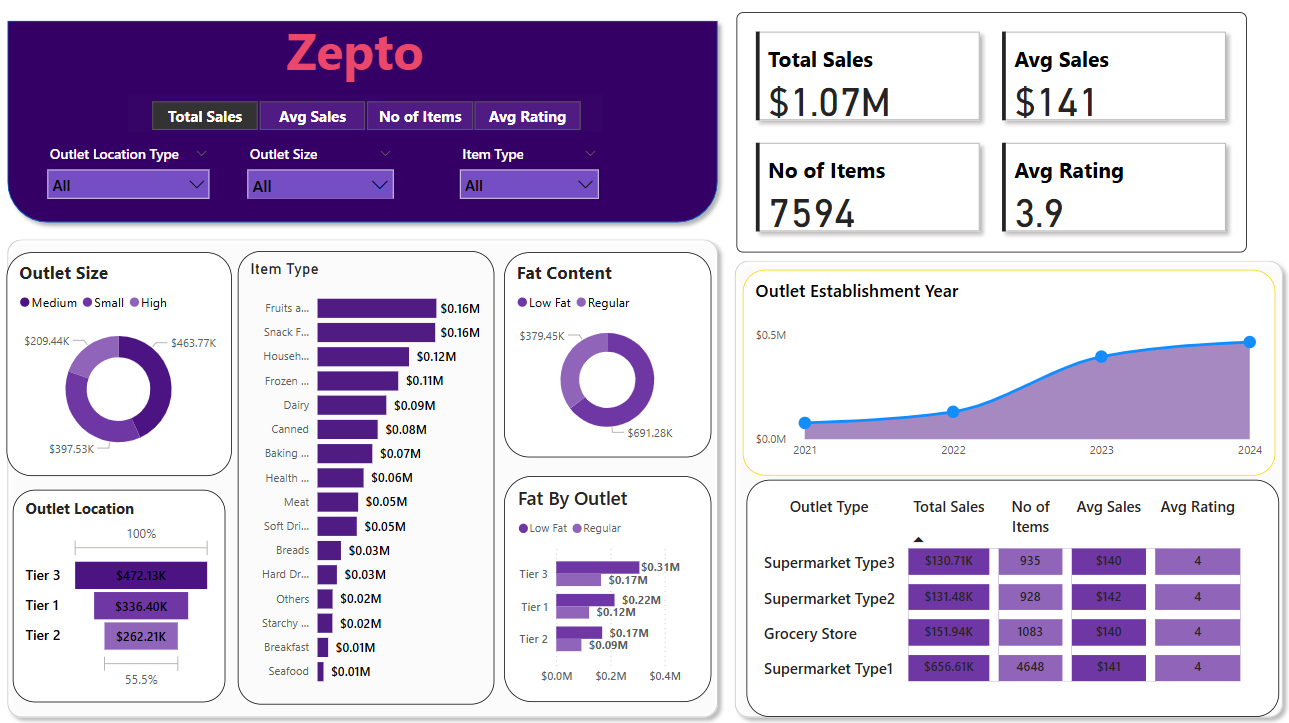

Layout of this report page (visuals, bound fields, positions):
{"tool":"powerbi","page":{"name":"Page 1","canvas":[1400,800],"ordinal":0},"visuals":[{"type":"shape","box":[0,22.8,780.2,234.6],"z":0},{"type":"cardVisual","fields":{"Data":["BlinkIT Grocery Data.Total Sales","BlinkIT Grocery Data.Avg Sales","BlinkIT Grocery Data.No of Items","BlinkIT Grocery Data.Avg Rating"]},"box":[790.9,22.8,546.9,257.4],"z":1000},{"type":"shape","box":[0,257.4,780.2,530.8],"z":2000},{"type":"donutChart","title":"Fat Content","fields":{"Y":["Grocery Data.Total Sales"],"Category":["BlinkIT Grocery Data.Item Fat Content"]},"box":[541.6,280.2,222.5,219.8],"z":3000},{"type":"slicer","fields":{"Values":["Parameter1.Parameter1"]},"box":[138.1,111.3,509.4,40.2],"z":4000},{"type":"clusteredBarChart","title":"Fat By Outlet","fields":{"Y":["Grocery Data.Total Sales"],"Series":["BlinkIT Grocery Data.Item Fat Content"],"Category":["BlinkIT Grocery Data.Outlet Location Type"]},"box":[541.6,520.1,222.5,242.6],"z":5000},{"type":"barChart","title":"Item Type","fields":{"Y":["Grocery Data.Total Sales"],"Category":["BlinkIT Grocery Data.Item Type"]},"box":[256,278.8,274.8,486.6],"z":6000},{"type":"shape","box":[780.2,280.2,605.9,508],"z":7000},{"type":"lineChart","title":"Outlet Establishment Year","fields":{"Y":["Grocery Data.Total Sales"],"Category":["BlinkIT Grocery Data.Outlet Establishment Year"]},"box":[797.6,298.9,571,221.2],"z":8000},{"type":"donutChart","title":"Outlet Size","fields":{"Y":["Grocery Data.Total Sales"],"Category":["Zepto Grocery Data.Outlet Size"]},"box":[8,280.2,241.3,239.9],"z":9000},{"type":"funnel","title":" Outlet Location","fields":{"Y":["Grocery Data.Total Sales"],"Category":["BlinkIT Grocery Data.Outlet Location Type"]},"box":[14.7,534.9,227.9,227.9],"z":10000},{"type":"pivotTable","fields":{"Rows":["BlinkIT Grocery Data.Outlet Type"],"Values":["BlinkIT Grocery Data.Total Sales","BlinkIT Grocery Data.No of Items","BlinkIT Grocery Data.Avg Sales","BlinkIT Grocery Data.Avg Rating"]},"box":[801.6,524.1,571,254.7],"z":11000},{"type":"slicer","fields":{"Values":["BlinkIT Grocery Data.Outlet Location Type"]},"box":[41.6,159.5,194.4,87.1],"z":12000},{"type":"slicer","fields":{"Values":["BlinkIT Grocery Data.Outlet Size"]},"box":[256,159.5,176.9,63],"z":13000},{"type":"slicer","fields":{"Values":["BlinkIT Grocery Data.Item Type"]},"box":[483.9,159.5,168.9,72.4],"z":14000},{"type":"textbox","box":[303,22.8,175.6,81.8],"z":15000}]}

Visuals, with their boxes in screenshot pixels (x1, y1, x2, y2), scaled from the page's 1400x800 canvas onto the 1289x723 screenshot:
shape: [x1=0, y1=21, x2=718, y2=233]
cardVisual - BlinkIT Grocery Data.Total Sales x BlinkIT Grocery Data.Avg Sales: [x1=728, y1=21, x2=1232, y2=253]
shape: [x1=0, y1=233, x2=718, y2=712]
"Fat Content" donutChart: [x1=499, y1=253, x2=704, y2=452]
slicer - Parameter1.Parameter1: [x1=127, y1=101, x2=596, y2=137]
"Fat By Outlet" clusteredBarChart: [x1=499, y1=470, x2=704, y2=689]
"Item Type" barChart: [x1=236, y1=252, x2=489, y2=692]
shape: [x1=718, y1=253, x2=1276, y2=712]
"Outlet Establishment Year" lineChart: [x1=734, y1=270, x2=1260, y2=470]
"Outlet Size" donutChart: [x1=7, y1=253, x2=230, y2=470]
" Outlet Location" funnel: [x1=14, y1=483, x2=223, y2=689]
pivotTable - BlinkIT Grocery Data.Outlet Type x BlinkIT Grocery Data.Total Sales: [x1=738, y1=474, x2=1264, y2=704]
slicer - BlinkIT Grocery Data.Outlet Location Type: [x1=38, y1=144, x2=217, y2=223]
slicer - BlinkIT Grocery Data.Outlet Size: [x1=236, y1=144, x2=399, y2=201]
slicer - BlinkIT Grocery Data.Item Type: [x1=446, y1=144, x2=601, y2=210]
textbox: [x1=279, y1=21, x2=441, y2=95]
